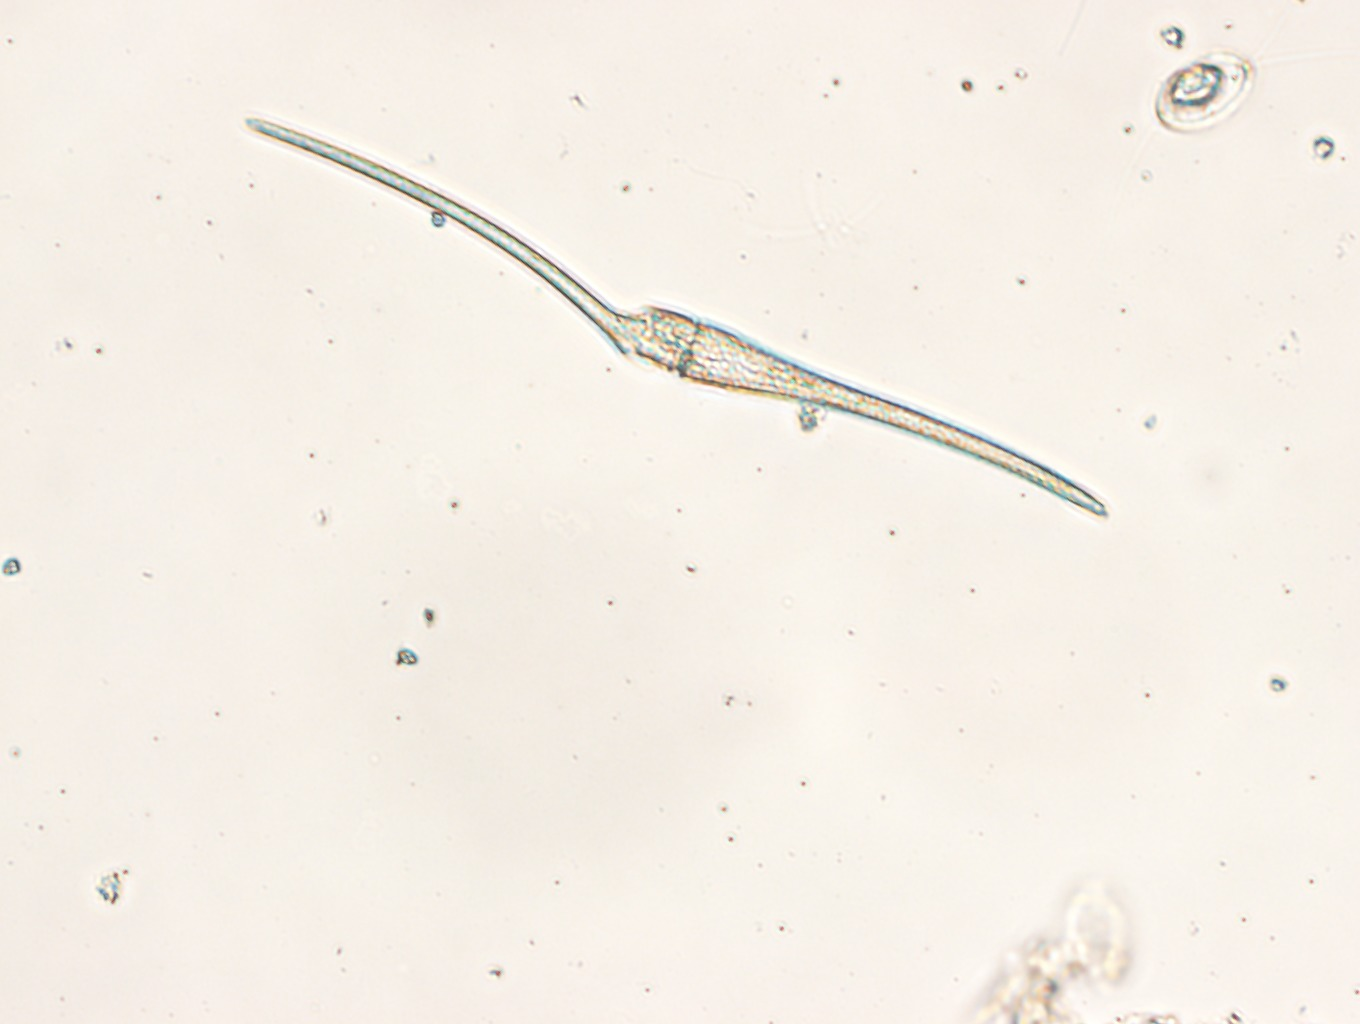ceratium fusus: (241, 115, 1110, 526)
